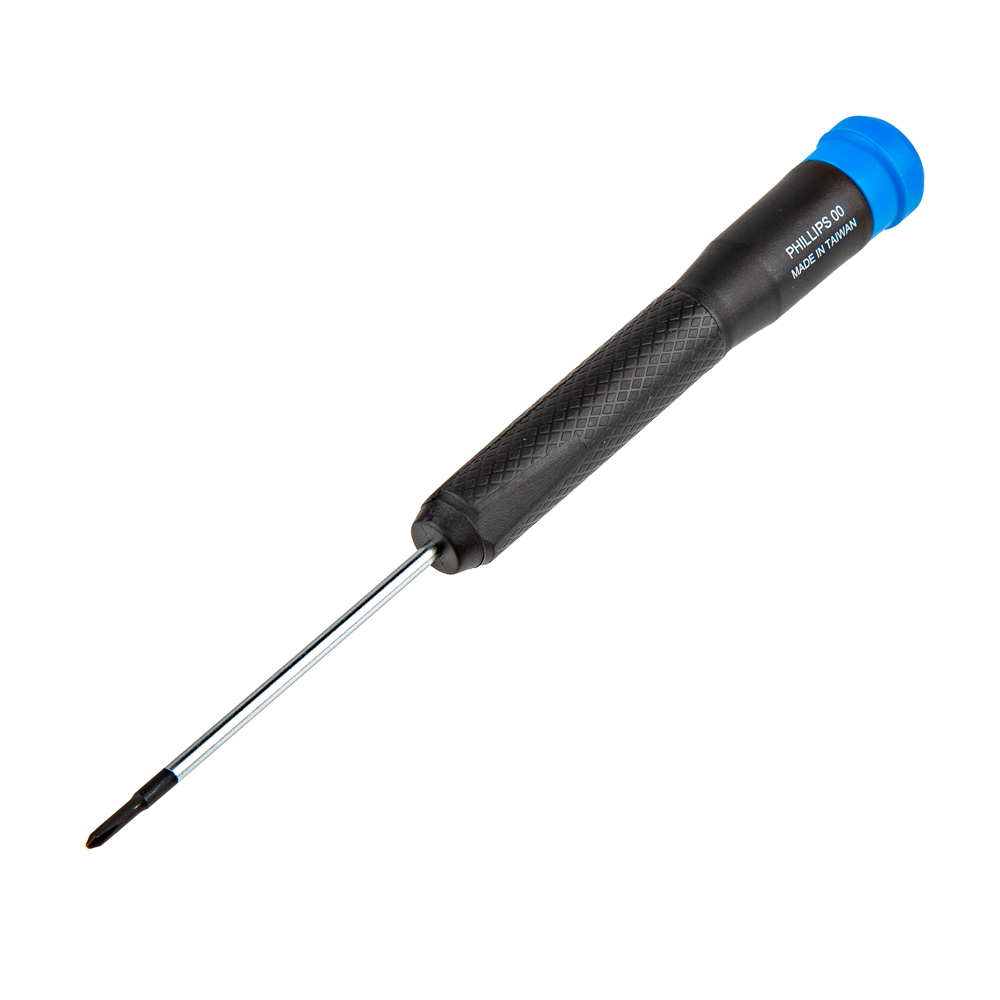screwdriver: (83, 115, 925, 849)
